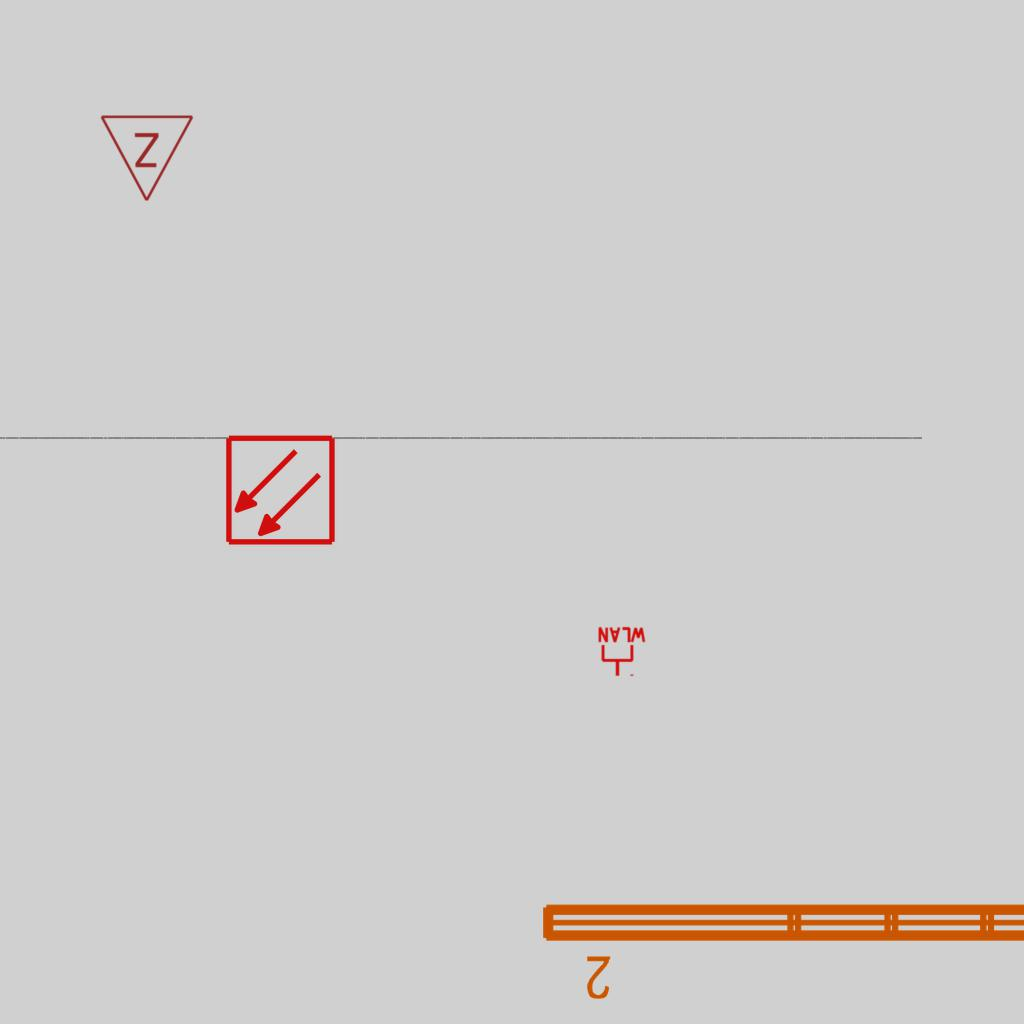Ambulanz_Pendelleuchte_LED: (534, 892, 1024, 1004)
RMO_Rauchmelder_optischer: (224, 434, 337, 547)
WLAN: (596, 626, 648, 678)
Zimmersignalleuchte: (99, 108, 197, 208)
